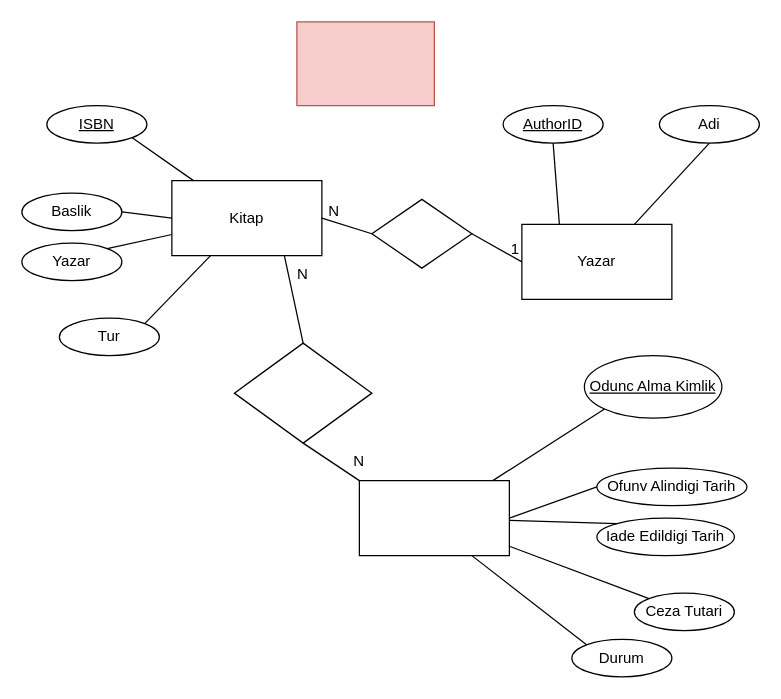
This 781x699 diagram has some shape labels left out. Here are the shapes that lost their labels. From the top down, the centre of each, then its label:
the point at 365,63: Soru1
the point at 421,233: Kitap Yazar
the point at 302,392: Kitap odunc alma
the point at 433,517: Odunc Alma
